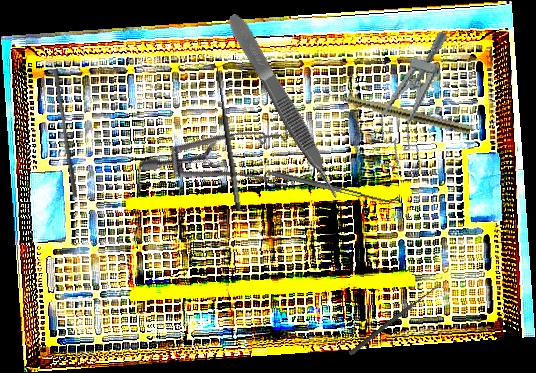Handpiece: (319, 86, 473, 136)
Hook Surgical: (203, 62, 244, 214)
Pusher: (48, 68, 83, 198)
Spatula Surgical: (270, 165, 400, 207)
Speculum: (136, 87, 316, 249), (367, 22, 459, 180)
Surgical Spoon: (348, 282, 441, 357)
Tissue Forceps: (223, 9, 345, 204)
